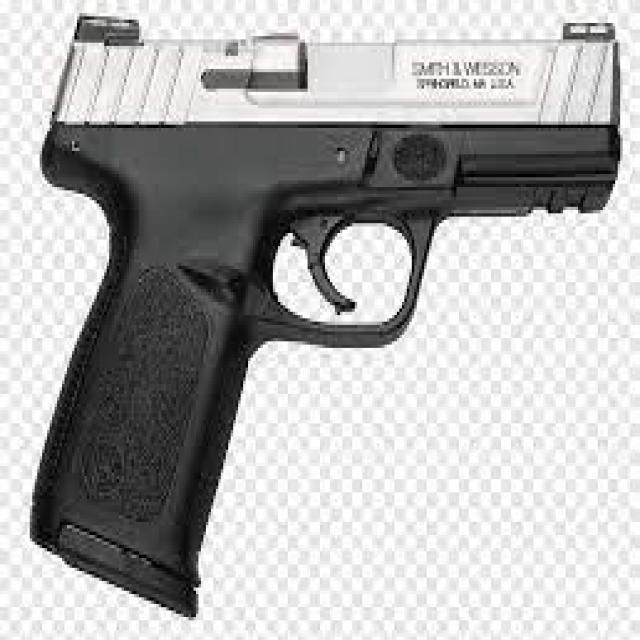semi automatic: (9, 7, 632, 624)
